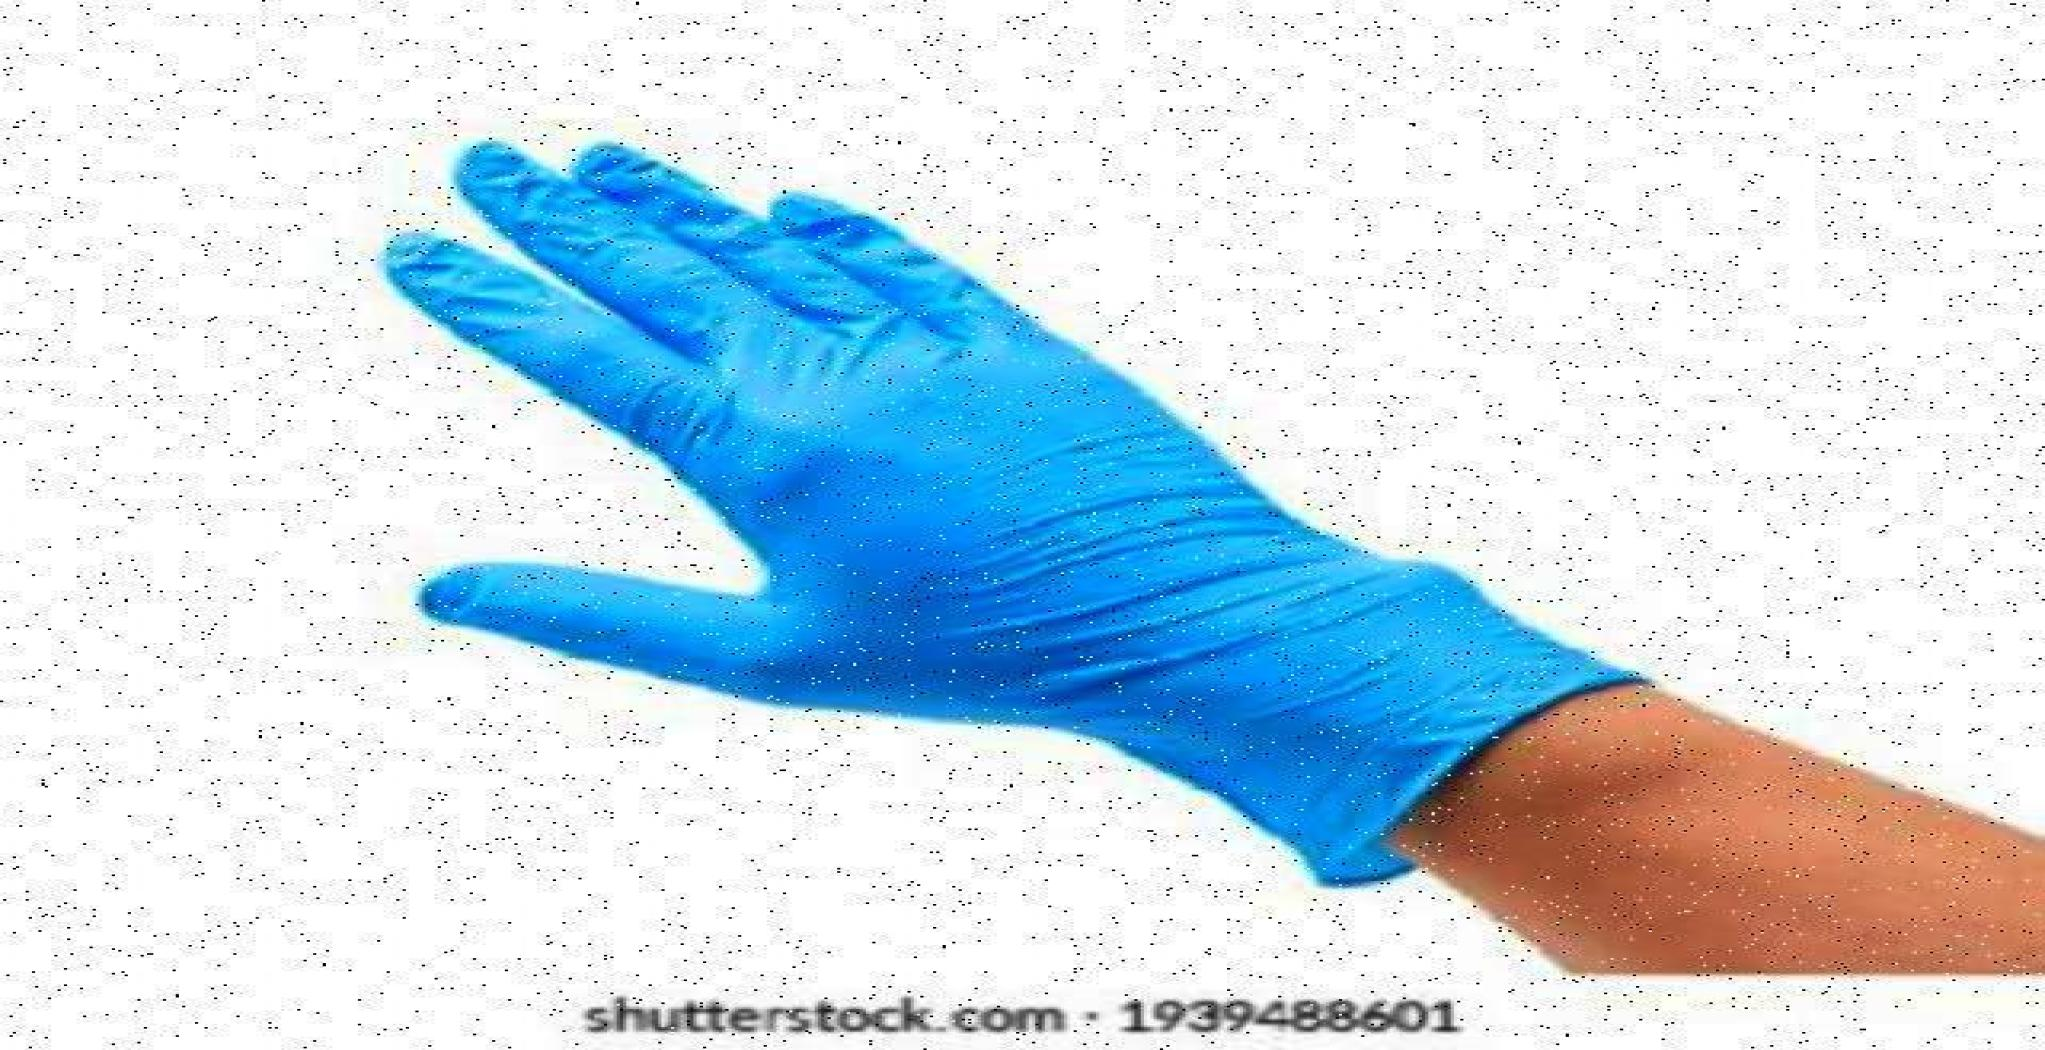gloved: (378, 135, 1653, 889)
